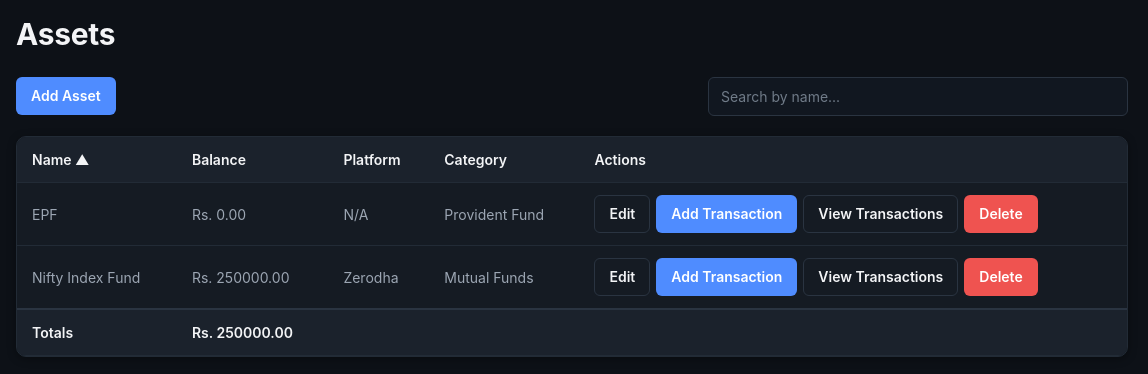
Test: Assets page › asset list › search filters by name and updates the total
Expected: the heading "Assets" is shown, 16,16 -> 115,52
Expected: the cell "Nifty Index Fund" is shown, 17,246 -> 177,309
In the search field named "Search assets by name": {"x": 918, "y": 96} 708,77 -> 1128,116, type "epf"
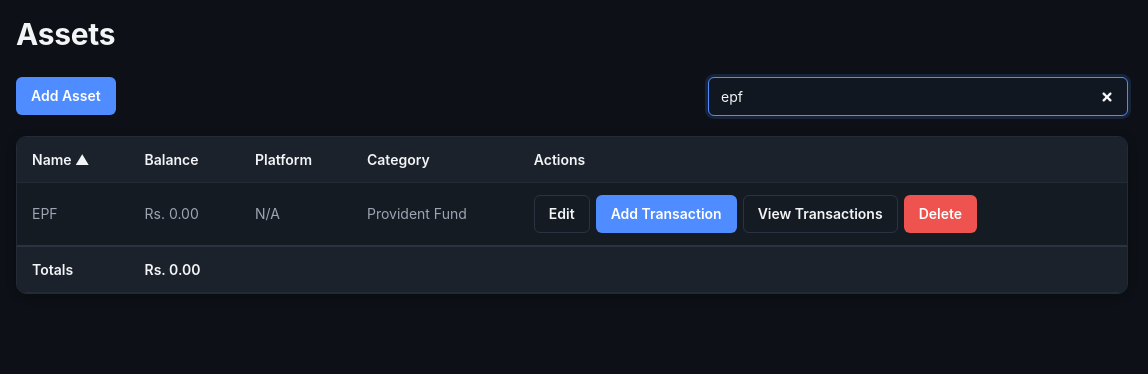
Result: the cell "Nifty Index Fund" is gone
Result: the text "Rs. 0.00" next to "Totals" is shown at 130,246 -> 240,292
